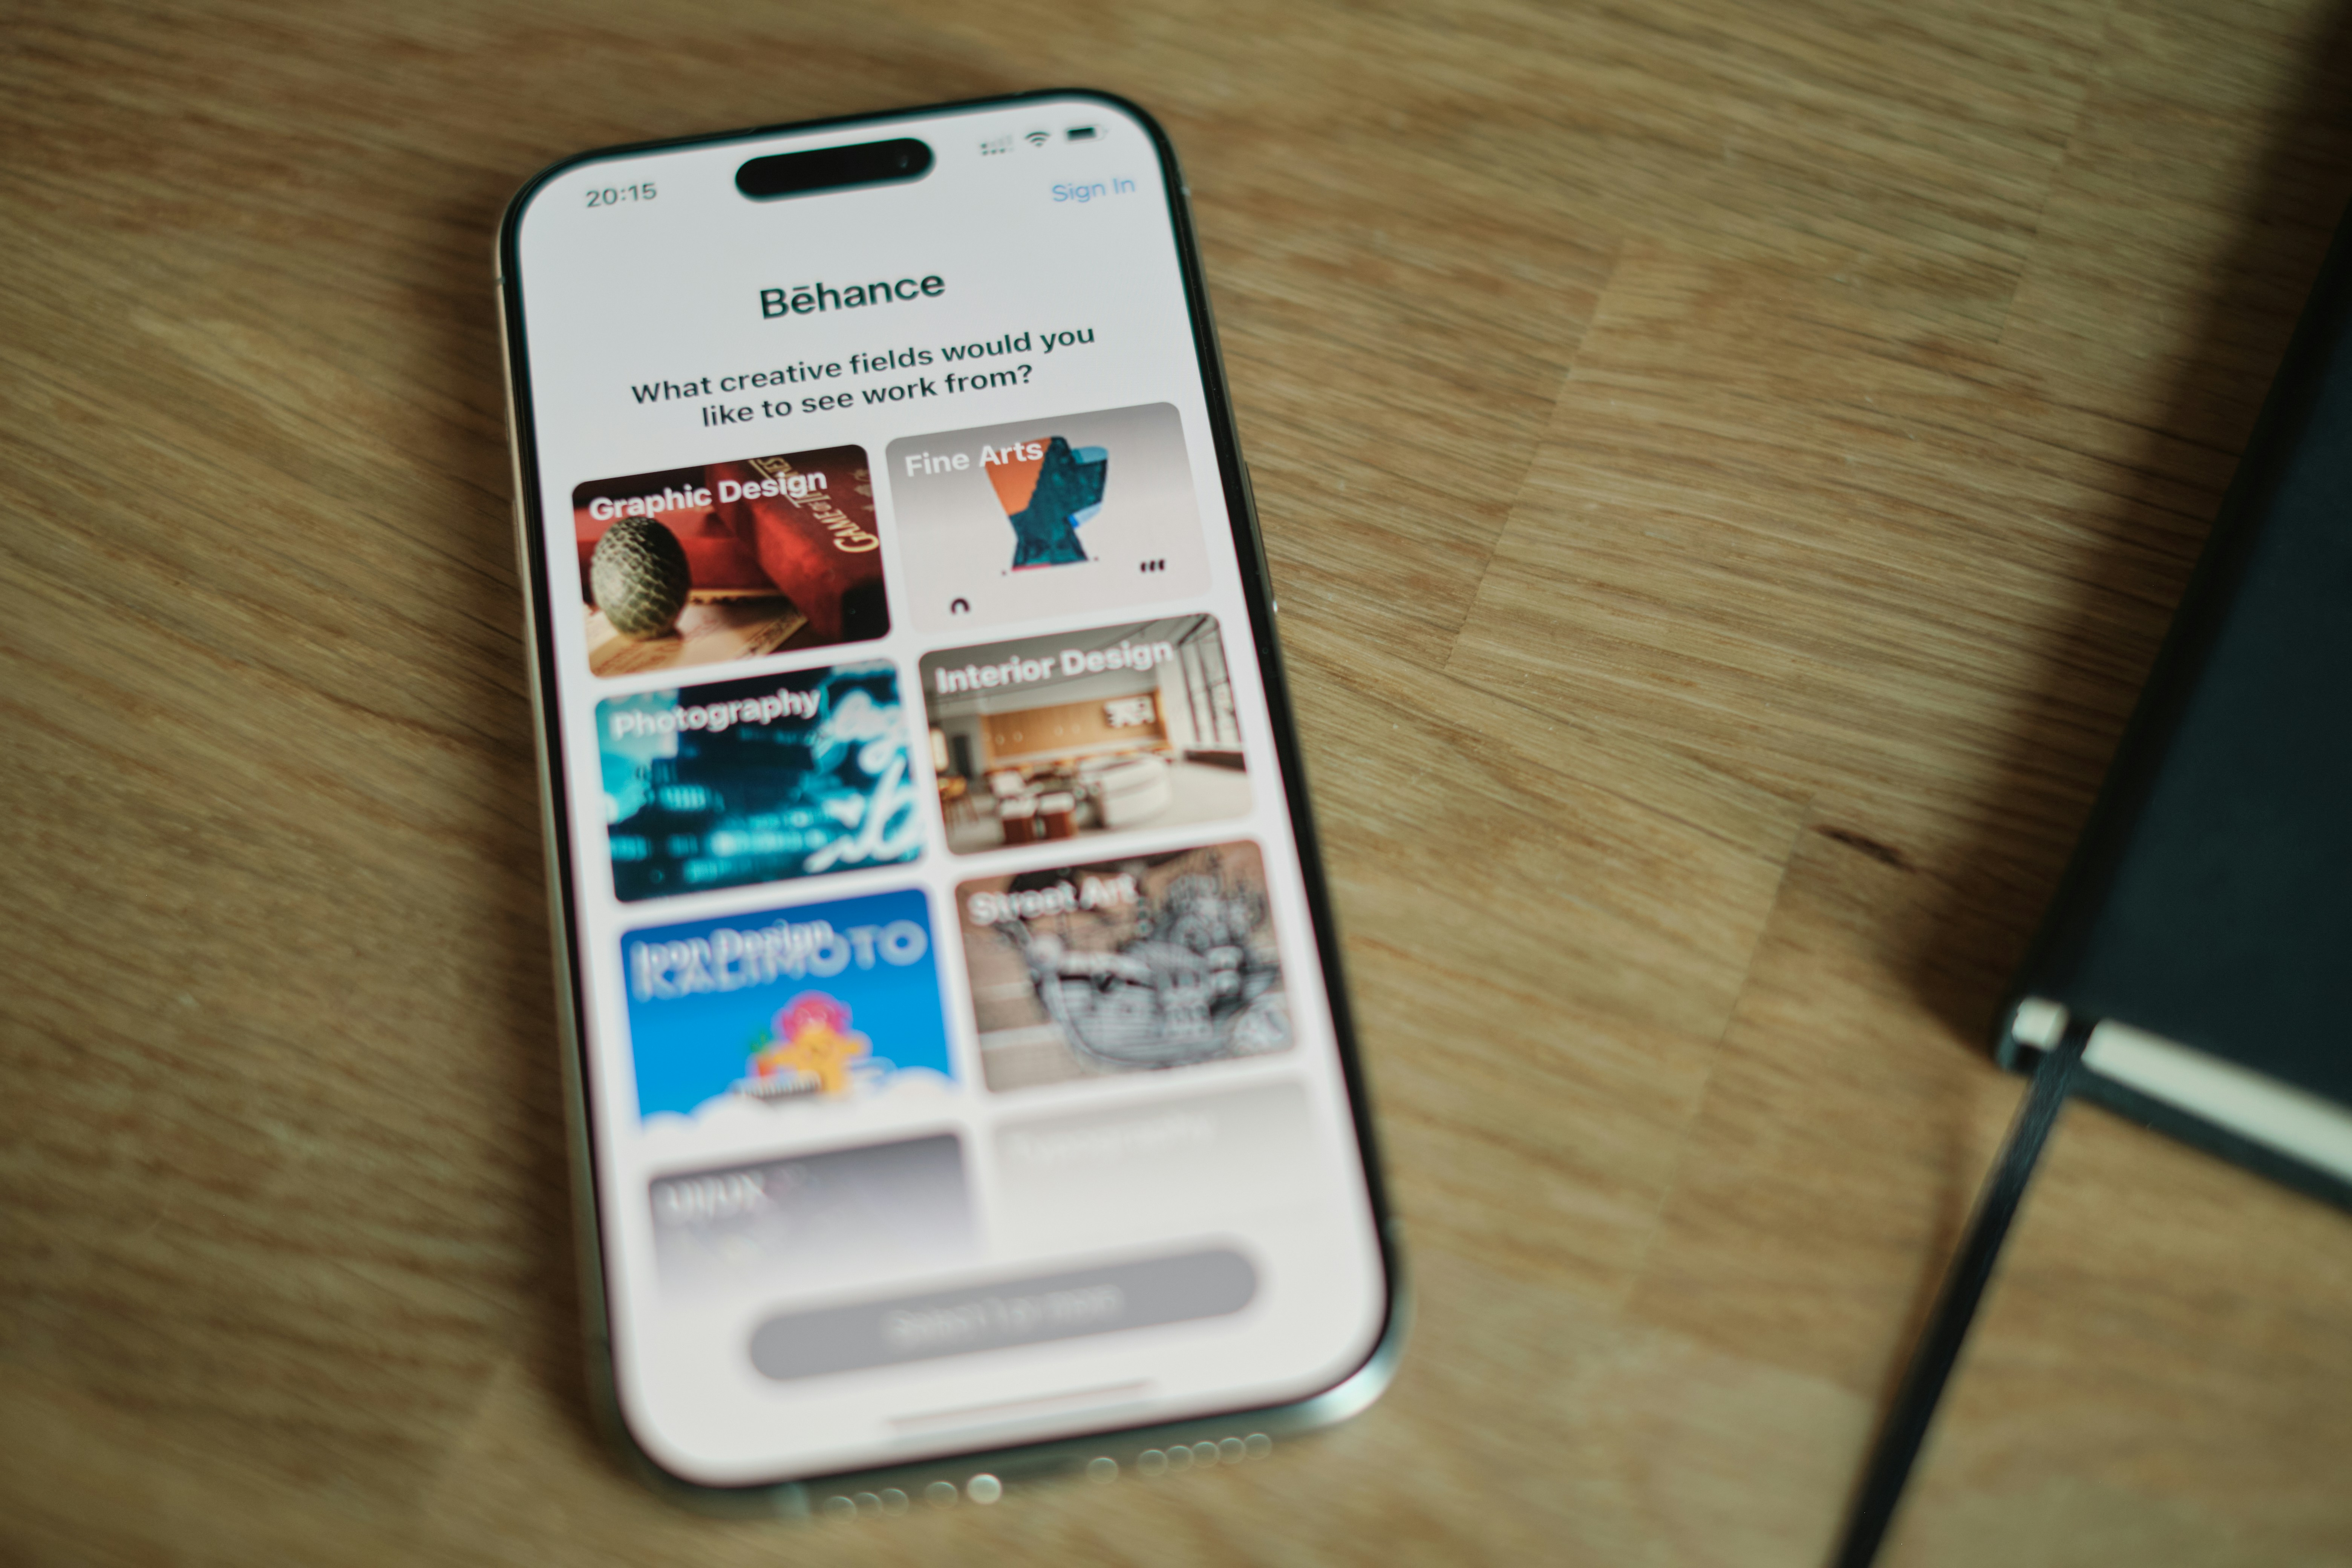p6: (459, 77, 1451, 1540)
